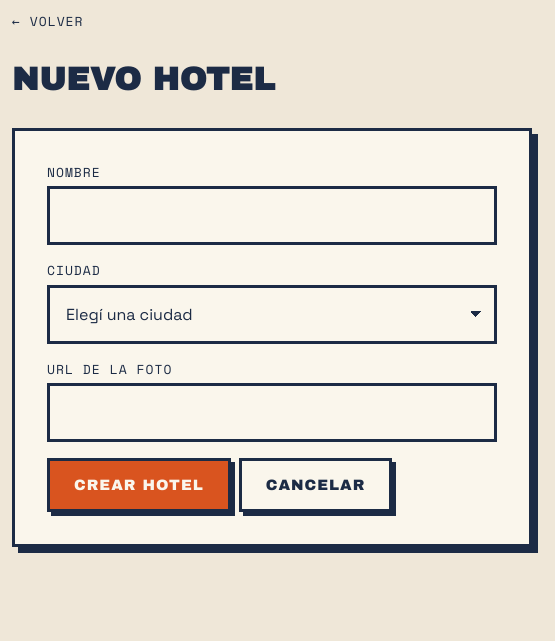
it: HotelForm page › shows validation errors when submitting empty fields
expect the field labelled "Nombre" is shown: met, box x1=47 y1=186 x2=497 y2=245
Click the button "Crear hotel": (139, 485) x1=47 y1=458 x2=231 y2=512
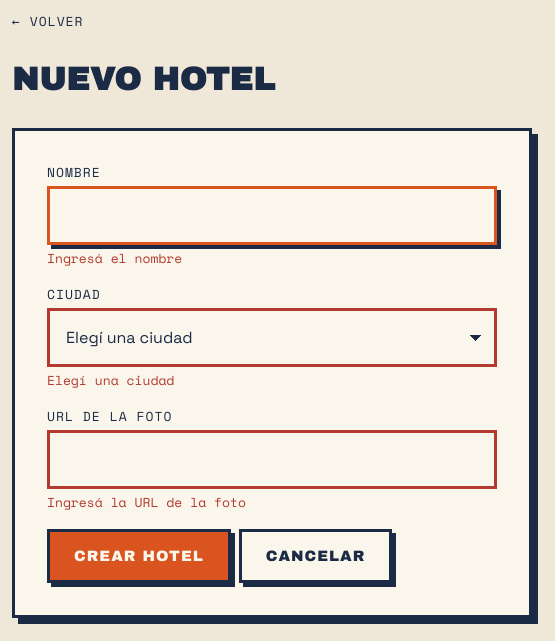
expect the text "Ingresá el nombre" is shown: met, box x1=47 y1=248 x2=182 y2=268
expect the text "Ingresá la URL de la foto" is shown: met, box x1=47 y1=492 x2=246 y2=512
